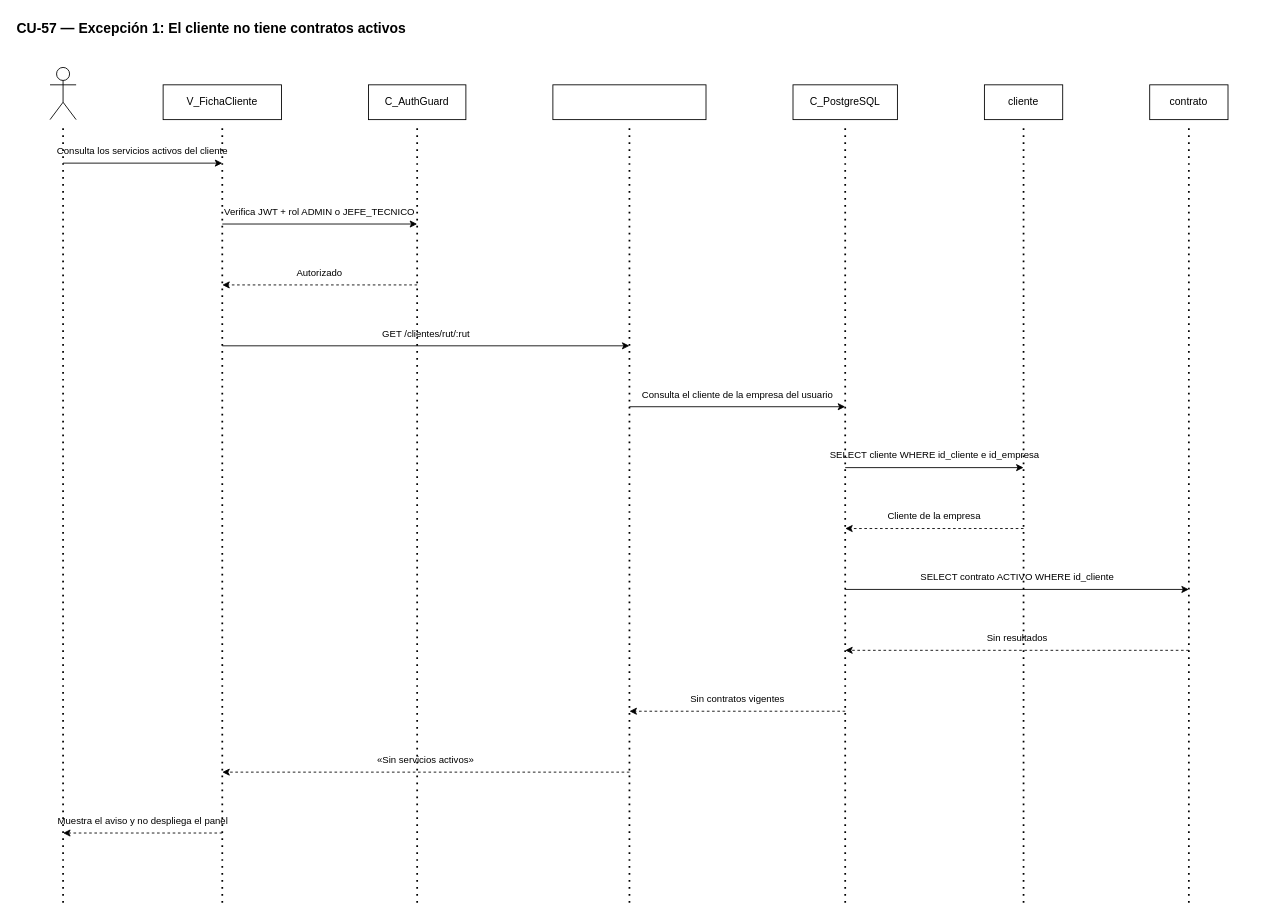
This 1277x919 diagram has some shape labels left out. Here are the shapes that lost their labels. From the top down, the box of each, then its label:
(49, 67, 76, 120): Jefe Técnico
(552, 84, 706, 120): C_ClienteController
